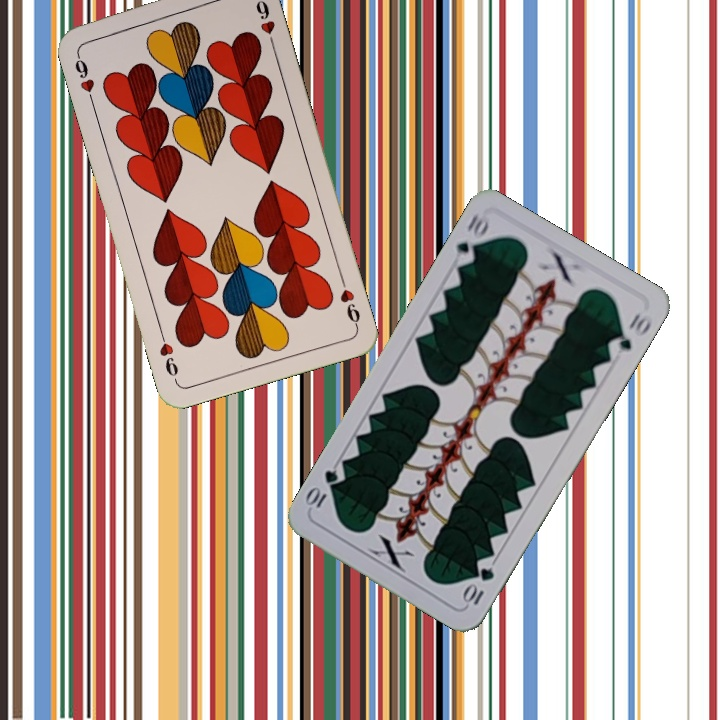G10: (452, 208, 492, 269), (458, 563, 497, 609)
H9: (336, 272, 363, 330), (70, 48, 97, 106)
